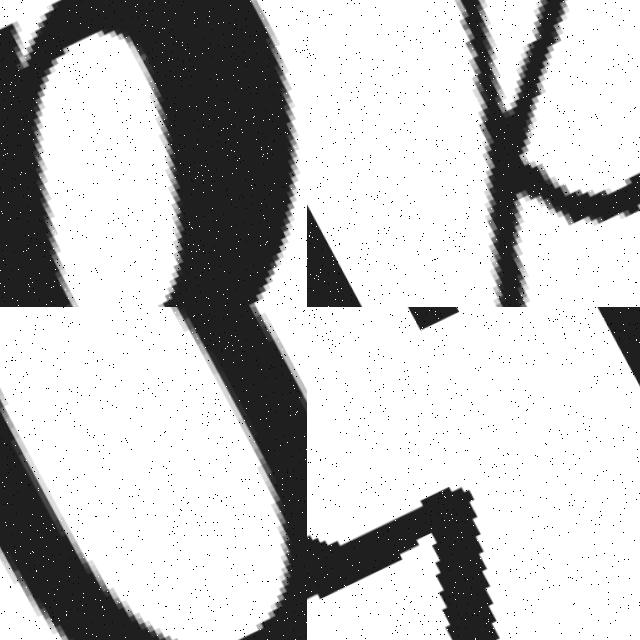0: (0, 307, 307, 640)
5: (307, 307, 640, 640)
D: (307, 0, 640, 307), (0, 0, 307, 307)
